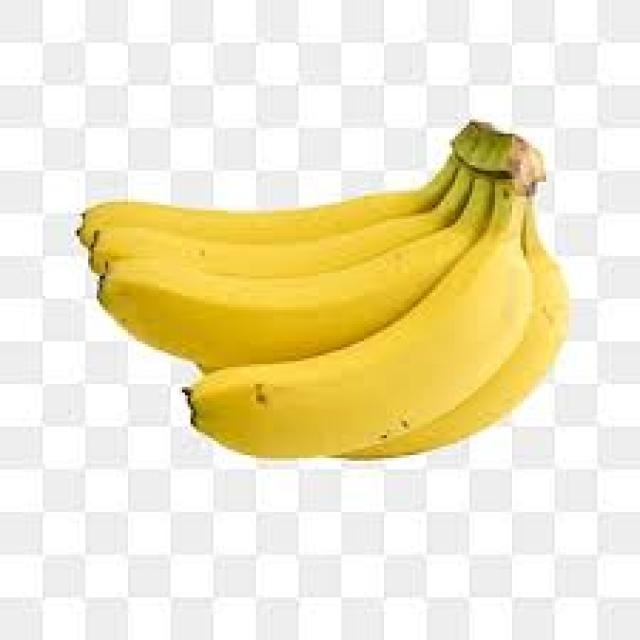banana: (74, 117, 569, 460)
